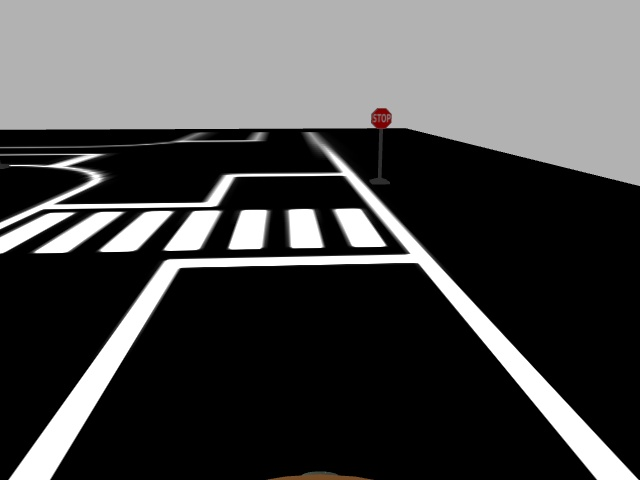stop: (368, 106, 394, 130)
